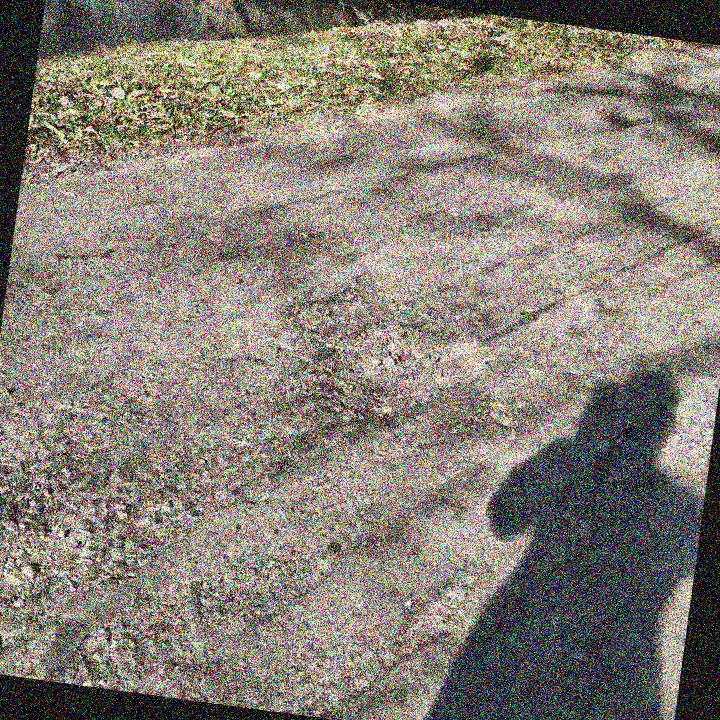pothole: (311, 310, 494, 442), (0, 499, 99, 637), (282, 257, 410, 342)
